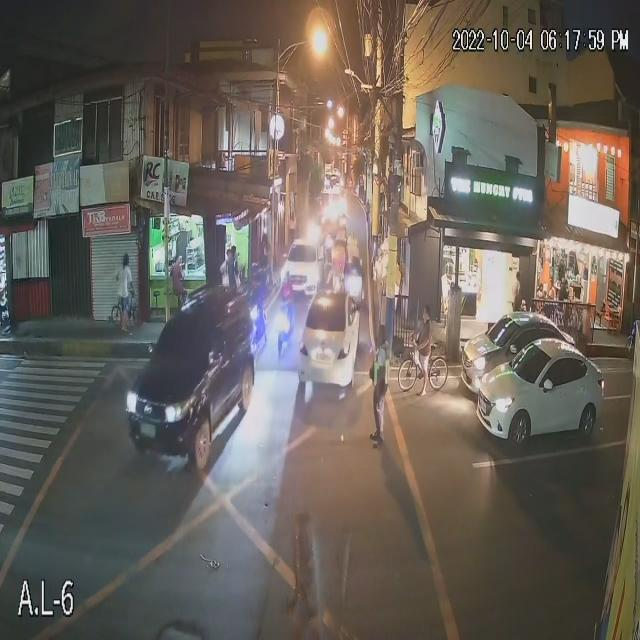motorcycle: (274, 311, 297, 349), (251, 310, 267, 347)
rider: (282, 286, 290, 315)
